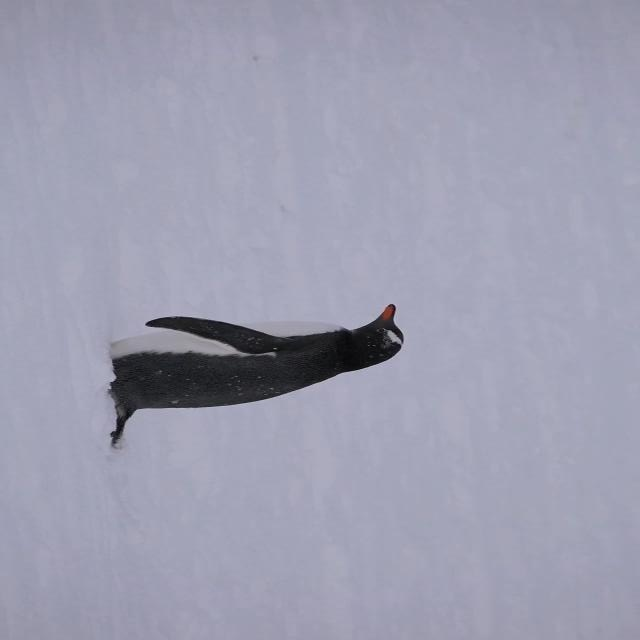penguin: (104, 303, 404, 448)
